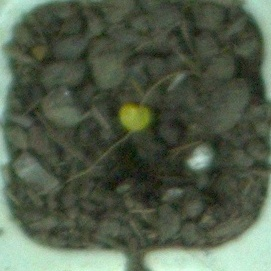pepper seed: (39, 34, 194, 169)
